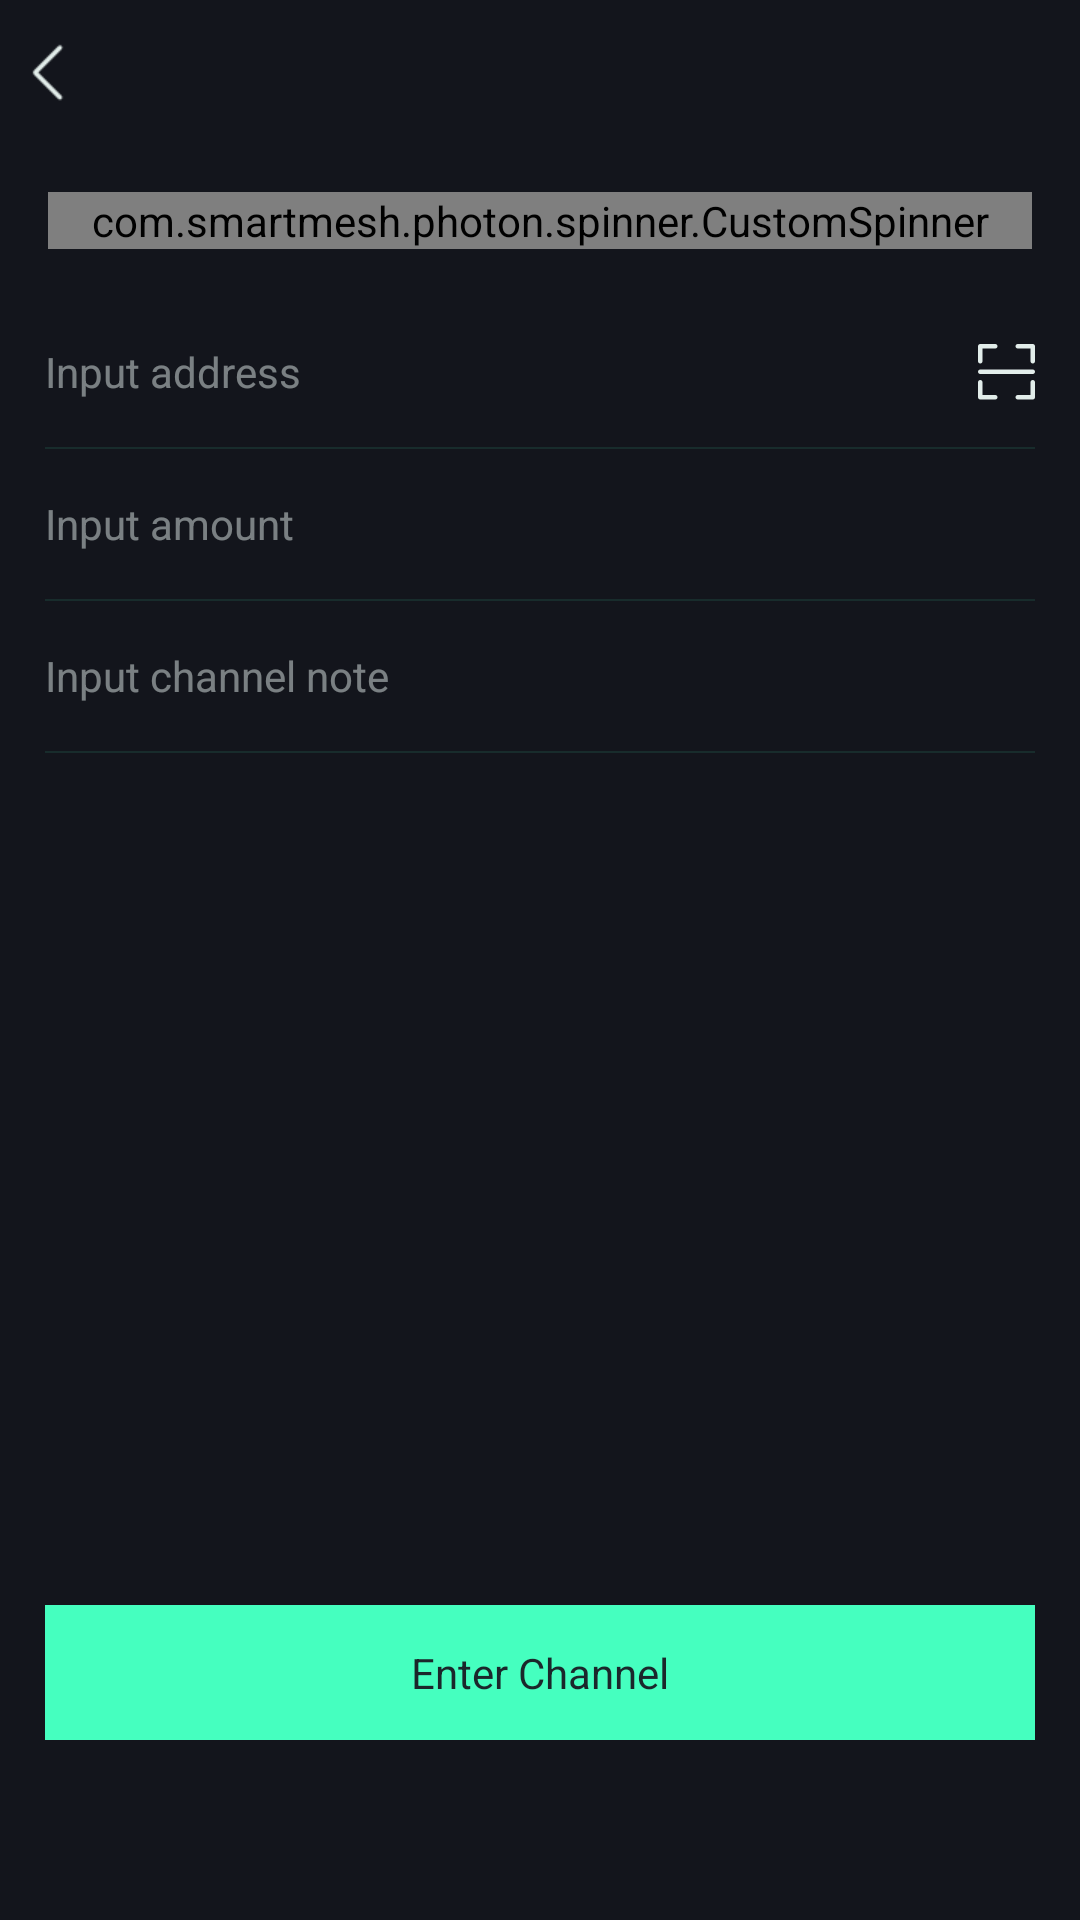

Screen size 1080×1920. Icon name, then its box in pixels as [x1=x1, y1=y1, x2=x2, y2=y2]:
back: [x1=32, y1=45, x2=63, y2=101]
scan: [x1=978, y1=344, x2=1035, y2=400]
